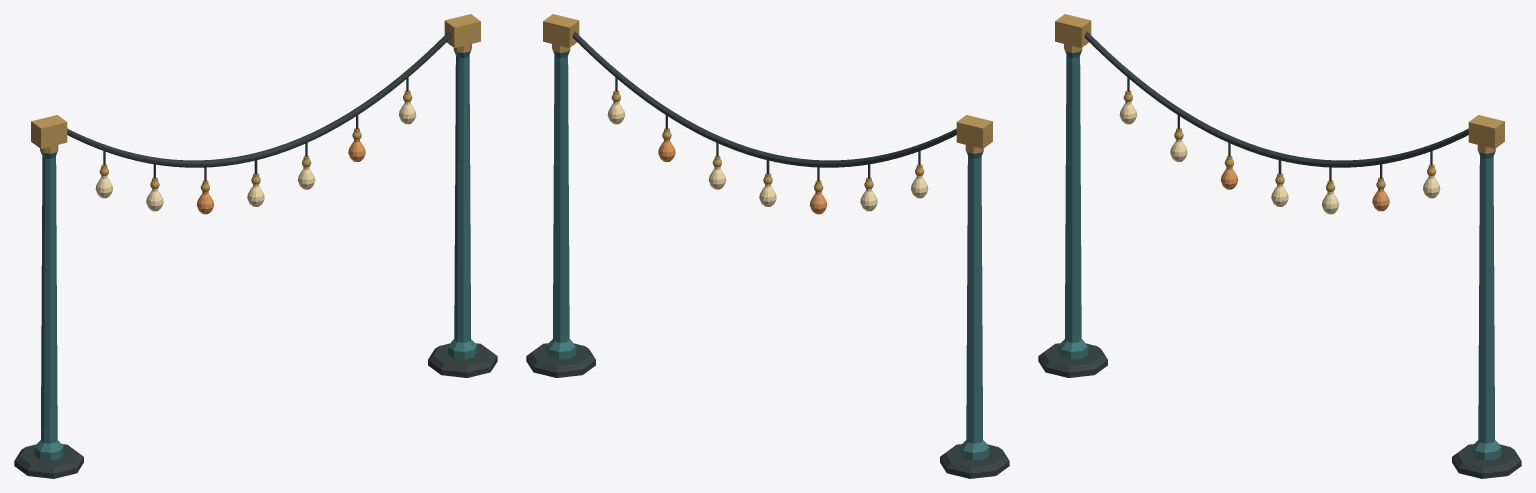
3 renders of one model, left to right at view 1: azimuth 30°, elevation 25°; view 2: azimuth 150°, elevation 25°; view 3: azimuth 330°, elevation 25°, orthographic.
Visible parts, largest first — view 1: OctagonalPost_Left, OctagonalPost_Right, ContinuousSaggingMainLine, TopTerminal_Left, TopTerminal_Right; view 2: OctagonalPost_Left, OctagonalPost_Right, ContinuousSaggingMainLine, TopTerminal_Left, TopTerminal_Right; view 3: OctagonalPost_Right, OctagonalPost_Left, ContinuousSaggingMainLine, TopTerminal_Right, TopTerminal_Left.
Part boxes in pixels (<box>): OctagonalPost_Left: <box>14,145,83,478</box>; OctagonalPost_Right: <box>428,44,497,377</box>; ContinuousSaggingMainLine: <box>67,31,451,167</box>; TopTerminal_Left: <box>31,115,67,148</box>; TopTerminal_Right: <box>444,14,480,47</box>; OctagonalPost_Left: <box>940,145,1009,478</box>; OctagonalPost_Right: <box>526,44,595,377</box>; ContinuousSaggingMainLine: <box>572,31,956,167</box>; TopTerminal_Left: <box>956,115,992,148</box>; TopTerminal_Right: <box>543,14,579,47</box>; OctagonalPost_Right: <box>1452,145,1521,478</box>; OctagonalPost_Left: <box>1038,44,1107,377</box>; ContinuousSaggingMainLine: <box>1084,31,1468,167</box>; TopTerminal_Right: <box>1468,115,1504,148</box>; TopTerminal_Left: <box>1055,14,1091,47</box>.
Bounding box in the file's own units: 4.09 × 2.85 × 0.4897.
